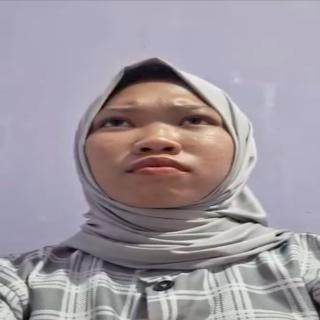Marah: (83, 70, 238, 222)
